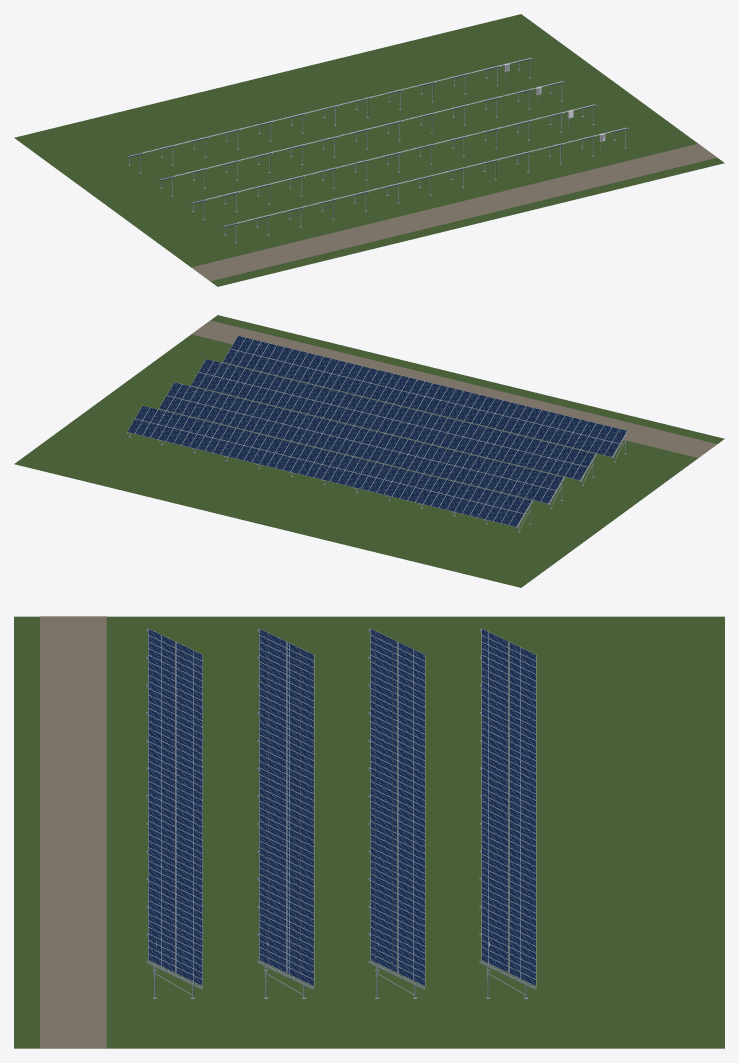
File: placas-solares.glb
The picture shows the model from 3 angles, top to bottom: view 1: azimuth 30°, elevation 25°; view 2: azimuth 150°, elevation 25°; view 3: azimuth 270°, elevation 25°; orthographic projection. The views are drawn at different scales.
Parts seen in each view (by area): view 1: Parque Solar Fotovoltaico (4 Mesas × 100 Placas = 400 Placas; view 2: Parque Solar Fotovoltaico (4 Mesas × 100 Placas = 400 Placas; view 3: Parque Solar Fotovoltaico (4 Mesas × 100 Placas = 400 Placas.
Boxes of the visible parts, <box> form: Parque Solar Fotovoltaico (4 Mesas × 100 Placas = 400 Placas: <box>14,14,724,286</box>; Parque Solar Fotovoltaico (4 Mesas × 100 Placas = 400 Placas: <box>14,315,724,587</box>; Parque Solar Fotovoltaico (4 Mesas × 100 Placas = 400 Placas: <box>14,616,724,1048</box>.
Bounding box in the file's own units: 69 × 2.86 × 48.
